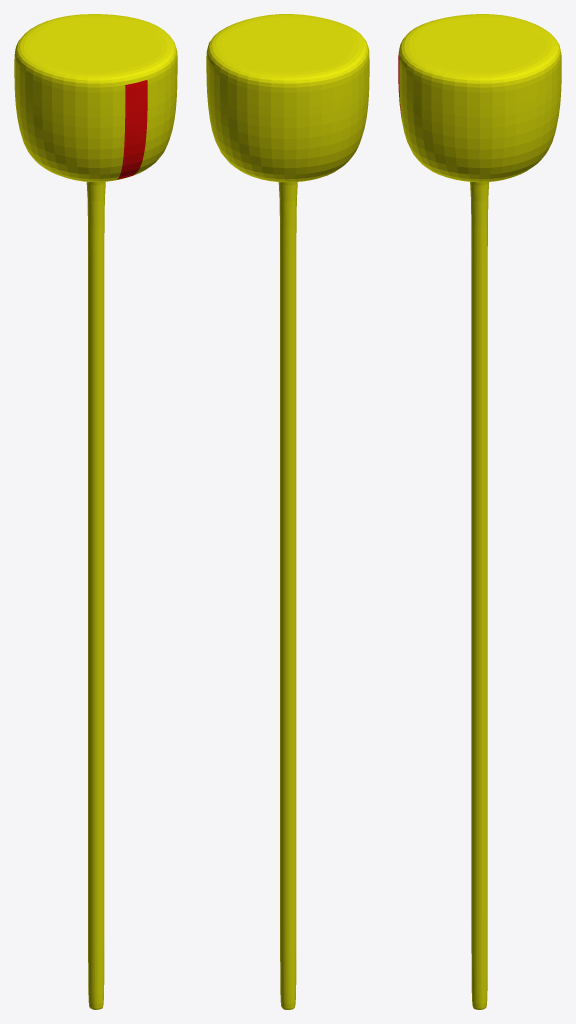
The model's file is flower.dae.
3 views of the same model, side by side, from view 1: azimuth 30°, elevation 25°; view 2: azimuth 150°, elevation 25°; view 3: azimuth 270°, elevation 25° (orthographic).
Visible parts, largest first — view 1: Cylinder; view 2: Cylinder; view 3: Cylinder.
Boxes of the visible parts, x1=… form: Cylinder: x1=14, y1=14, x2=177, y2=1009; Cylinder: x1=206, y1=14, x2=369, y2=1009; Cylinder: x1=398, y1=14, x2=561, y2=1009.
Bounding box in the file's own units: 1.54 × 1.54 × 10.
